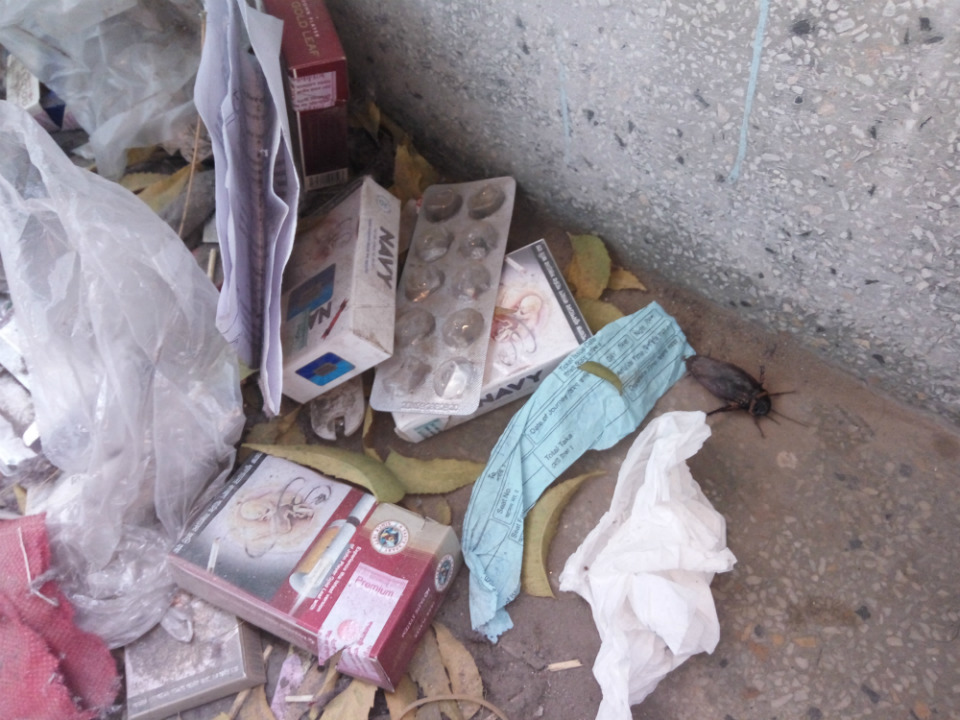cockroach: (636, 327, 827, 439)
